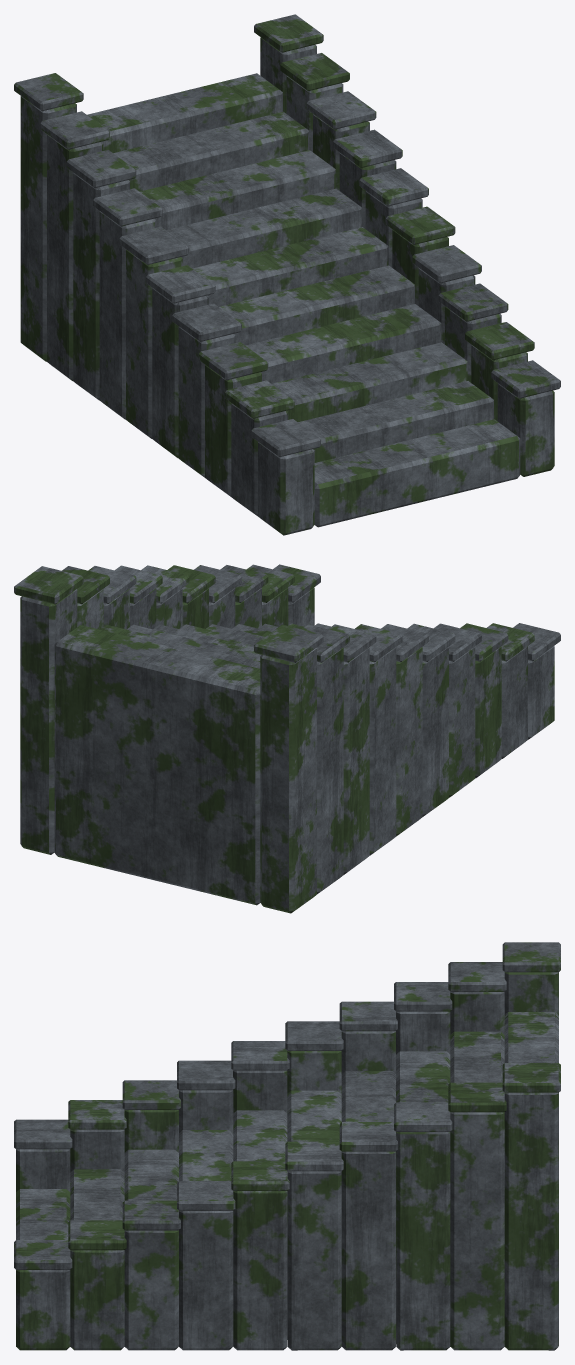
File: Bell_Stair_Segment.glb
3 renders of one model, top to bottom at view 1: azimuth 30°, elevation 25°; view 2: azimuth 150°, elevation 25°; view 3: azimuth 270°, elevation 25°, orthographic. The views are drawn at different scales.
Visible parts, largest first — view 1: Bell_Stair_Segment__Stone; view 2: Bell_Stair_Segment__Stone; view 3: Bell_Stair_Segment__Stone.
Part boxes in pixels (<box>): Bell_Stair_Segment__Stone: <box>14,14,560,535</box>; Bell_Stair_Segment__Stone: <box>14,564,560,913</box>; Bell_Stair_Segment__Stone: <box>14,942,560,1350</box>.
Bounding box in the file's own units: 12.4 × 11 × 20.15.
1 material, 1 textured.
